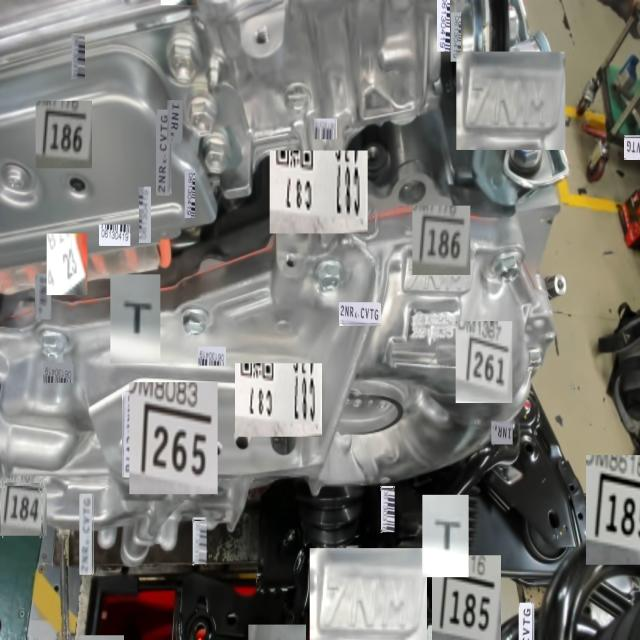Absorber LH-23: (58, 244, 84, 287)
Compressor-T: (118, 290, 157, 344), (431, 512, 466, 556)
Engine Assy-184: (2, 474, 46, 537)
Engine Assy-185: (438, 564, 497, 638)
Engine Assy-186: (411, 204, 470, 275), (35, 98, 94, 168)
Engine Assy-261: (456, 316, 513, 404)
Engine Assy-265: (136, 391, 213, 487)
Transaxele-7NM: (315, 553, 417, 638), (462, 58, 558, 136)
Transaxele-C87-A27: (278, 164, 366, 224), (237, 368, 319, 432)
